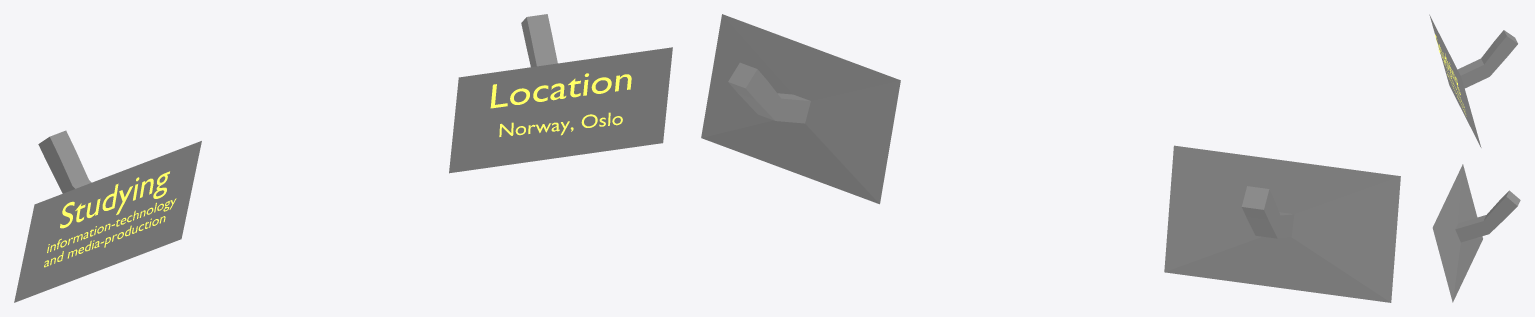
Rendered from Screen 1.3.glb.
The picture shows the model from 3 angles, left to right: view 1: azimuth 30°, elevation 25°; view 2: azimuth 150°, elevation 25°; view 3: azimuth 270°, elevation 25°; orthographic projection. The views are drawn at different scales.
Parts seen in each view (by area): view 1: Cube.011, Text.013, Text.011, Text.012, Text.016; view 2: Cube.011; view 3: Cube.011, Text.011, Text.012.
Part boxes in pixels (left/top/right/bottom): Cube.011: left=14, top=14, right=672, bottom=302; Text.013: left=490, top=73, right=631, bottom=108; Text.011: left=60, top=171, right=169, bottom=228; Text.012: left=44, top=198, right=176, bottom=267; Text.016: left=499, top=112, right=622, bottom=136; Cube.011: left=701, top=14, right=1400, bottom=302; Cube.011: left=1429, top=14, right=1520, bottom=302; Text.011: left=1435, top=34, right=1460, bottom=94; Text.012: left=1443, top=61, right=1466, bottom=116.
Bounding box in the file's own units: 55.66 × 9.77 × 9.93.
